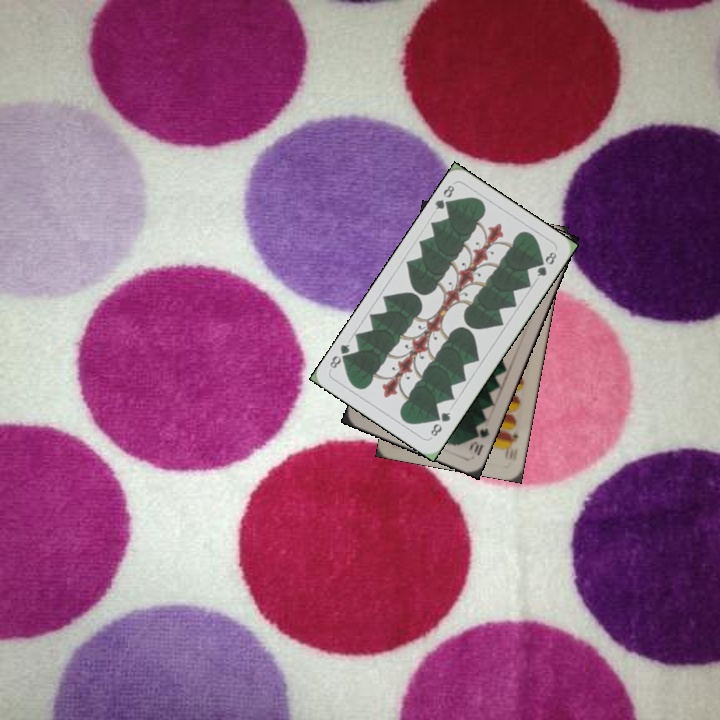E10: (505, 430, 521, 461)
G10: (465, 424, 492, 459)
G8: (426, 408, 453, 441), (431, 181, 457, 213)
